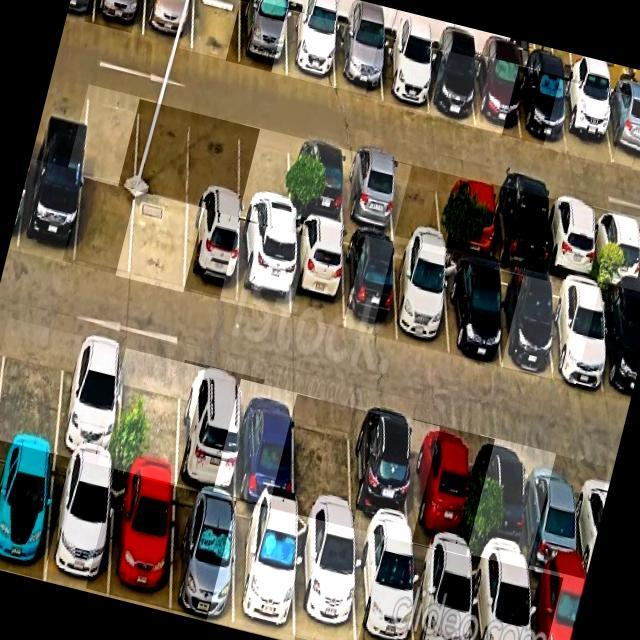empty: (117, 348, 182, 484), (0, 319, 66, 450), (294, 394, 352, 528), (134, 99, 193, 203), (74, 177, 135, 276), (81, 85, 139, 187), (130, 192, 187, 292), (187, 113, 239, 215), (239, 125, 289, 230), (391, 160, 442, 245), (191, 0, 241, 63)
occupied: (46, 455, 113, 593), (56, 332, 123, 467), (170, 486, 234, 625), (109, 471, 173, 609), (232, 502, 295, 640), (177, 363, 239, 498), (351, 407, 412, 542), (236, 379, 295, 510), (0, 442, 56, 579), (294, 516, 355, 640), (412, 420, 466, 555), (528, 448, 581, 581), (17, 159, 82, 264), (478, 435, 528, 568), (548, 277, 606, 390), (354, 533, 414, 640), (493, 269, 552, 375), (394, 243, 449, 354), (444, 258, 500, 367), (344, 231, 397, 339), (413, 544, 472, 640), (292, 219, 343, 328), (184, 206, 239, 304), (238, 220, 290, 317), (491, 184, 546, 274), (471, 557, 530, 640), (291, 137, 343, 226), (600, 288, 640, 402), (441, 172, 493, 259), (343, 149, 394, 236), (560, 80, 612, 163), (546, 196, 596, 281), (528, 569, 585, 640), (593, 206, 640, 292), (519, 66, 566, 151), (287, 9, 336, 88), (474, 56, 521, 138), (426, 48, 475, 125), (380, 37, 428, 112), (240, 0, 287, 76), (335, 25, 381, 98), (602, 89, 640, 169), (143, 0, 194, 48), (93, 0, 144, 35)
